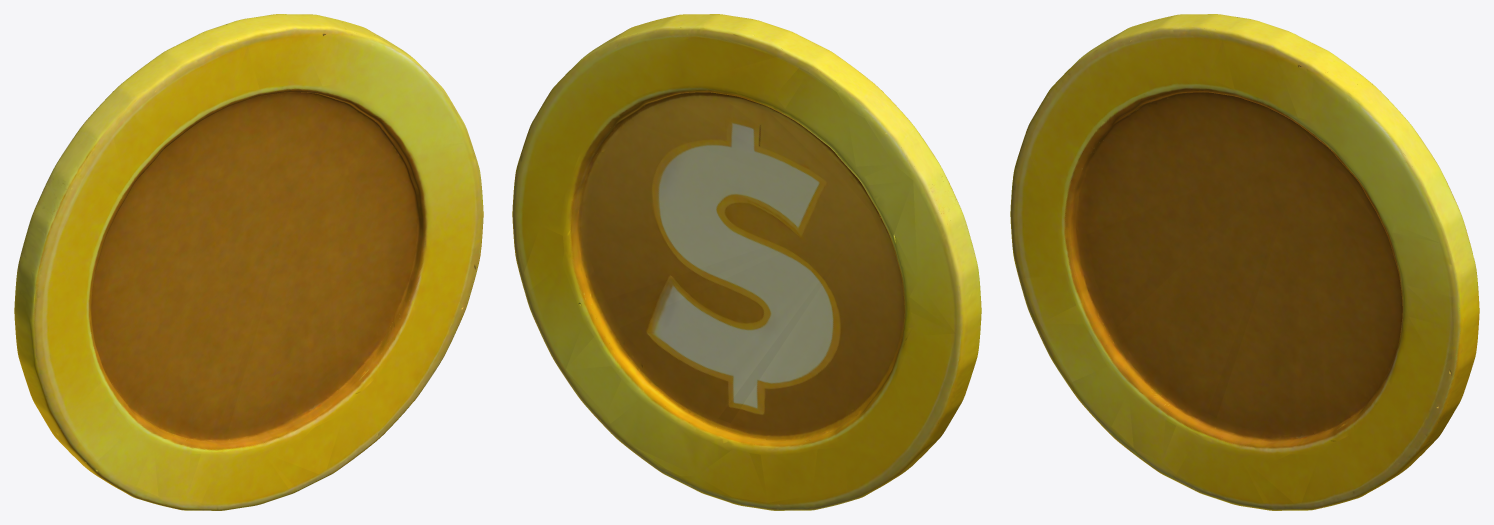
File: coin_opt.glb
3 views of the same model, side by side, from view 1: azimuth 30°, elevation 25°; view 2: azimuth 150°, elevation 25°; view 3: azimuth 330°, elevation 25° (orthographic).
Parts seen in each view (by area): view 1: Mesh_0; view 2: Mesh_0; view 3: Mesh_0.
Part boxes in pixels (x1=…): Mesh_0: x1=14, y1=14, x2=483, y2=510; Mesh_0: x1=512, y1=14, x2=981, y2=510; Mesh_0: x1=1010, y1=14, x2=1479, y2=510.
Size of the model in its own units: 2 by 2 by 0.1598.
1 material, 1 textured.
